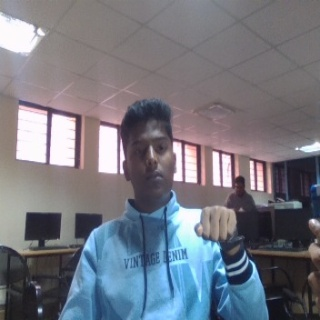Face: (120, 98, 180, 209)
Yes: (194, 202, 245, 251)
